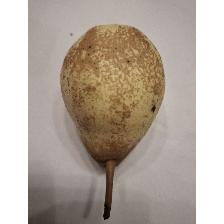Birne: (58, 21, 168, 222)
